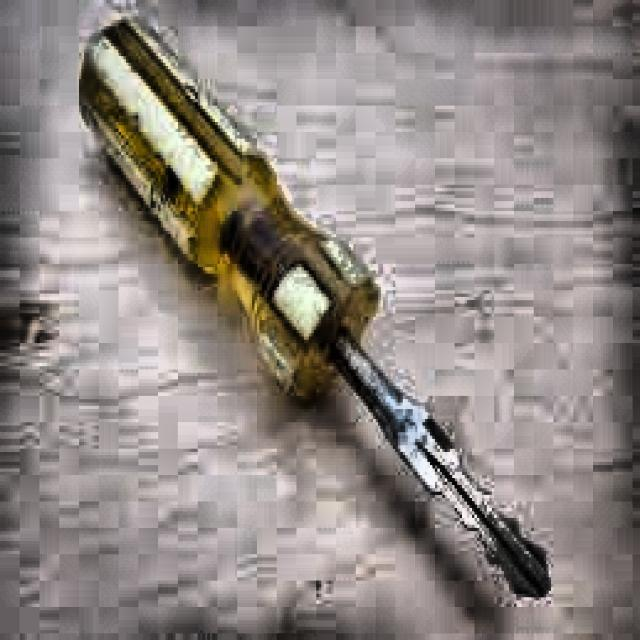screwdriver: (82, 21, 550, 594)
